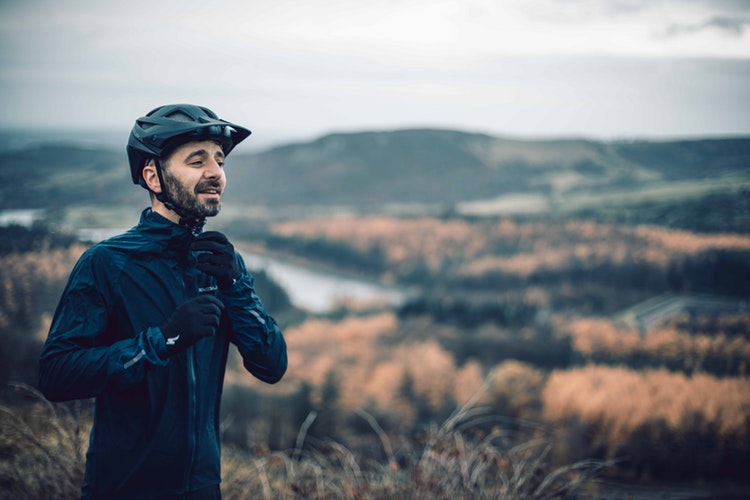helmet: (113, 94, 242, 171)
